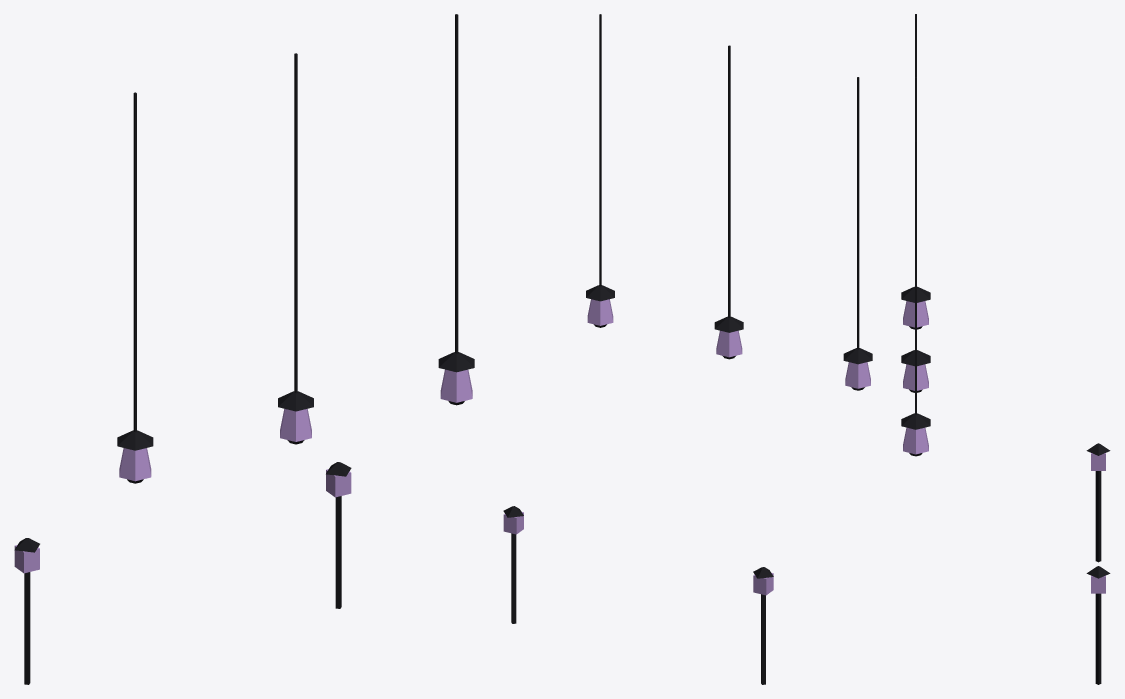
File: pilgrim-shrine-violet.glb
3 views of the same model, side by side, from view 1: azimuth 30°, elevation 25°; view 2: azimuth 150°, elevation 25°; view 3: azimuth 270°, elevation 25° (orthographic). The views are drawn at different scales.
Parts seen in each view (by area): view 1: pilgrim-shrine-violet; view 2: pilgrim-shrine-violet; view 3: pilgrim-shrine-violet.
Boxes of the visible parts, x1,y1,x2,y2 form: pilgrim-shrine-violet: (14, 14, 474, 684); pilgrim-shrine-violet: (503, 14, 872, 684); pilgrim-shrine-violet: (901, 14, 1110, 684).
Bounding box in the file's own units: 3.56 × 6.42 × 2.24.
